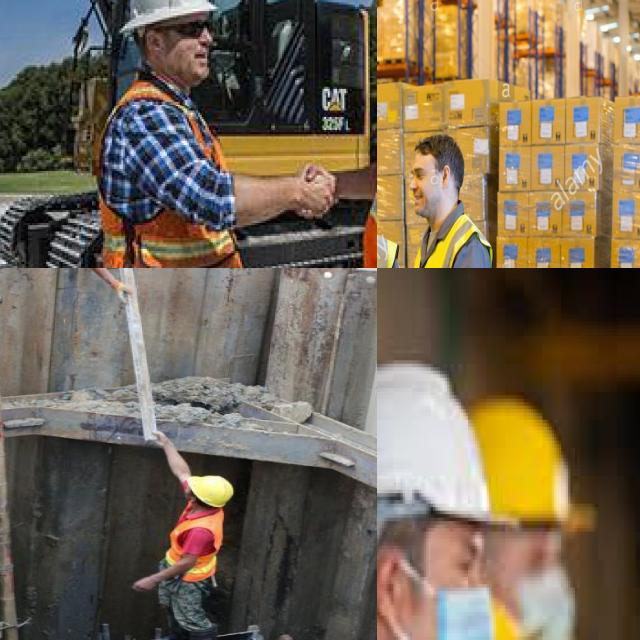No_Ear-Protection: (441, 162, 452, 190)
No_Glasses: (407, 166, 432, 184)
face_nomask: (158, 11, 220, 91), (408, 156, 445, 222)
glasses: (171, 14, 220, 45)
hand_noglove: (290, 158, 342, 234), (106, 280, 142, 309), (139, 431, 178, 457), (125, 576, 156, 597)
head_helmet: (377, 346, 521, 535), (464, 384, 598, 532), (123, 0, 220, 30), (190, 475, 236, 512)
head_nohelmet: (414, 127, 464, 158)
person: (98, 0, 251, 268), (150, 432, 249, 640), (393, 132, 496, 268), (34, 268, 131, 297)
vest: (100, 98, 235, 268), (158, 507, 236, 581), (407, 227, 486, 268)
